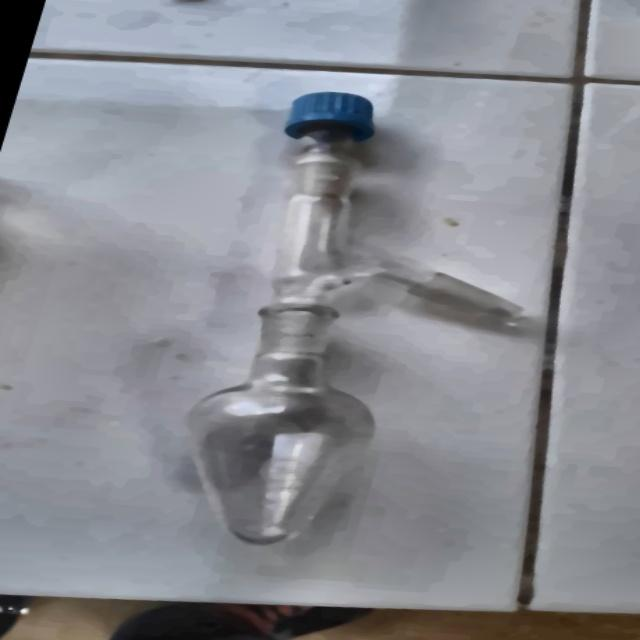Distillation: (54, 72, 620, 571)
